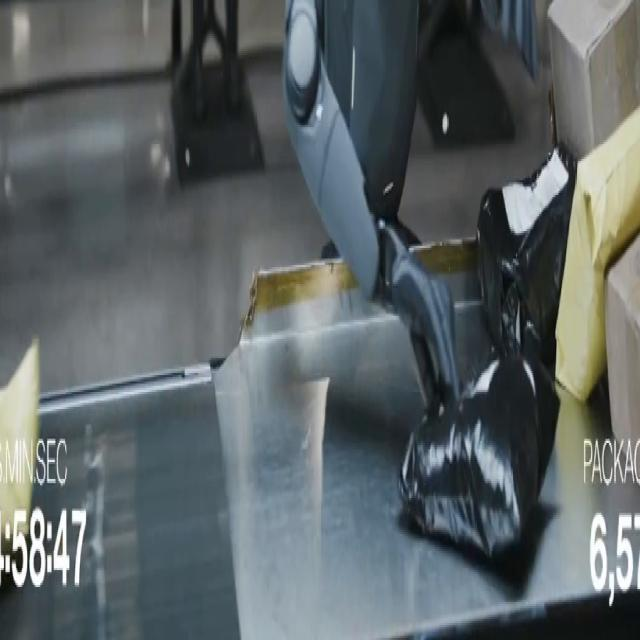package: (400, 357, 559, 557), (556, 109, 639, 400), (477, 145, 576, 366), (548, 0, 639, 158), (0, 342, 39, 553), (605, 236, 639, 442)
